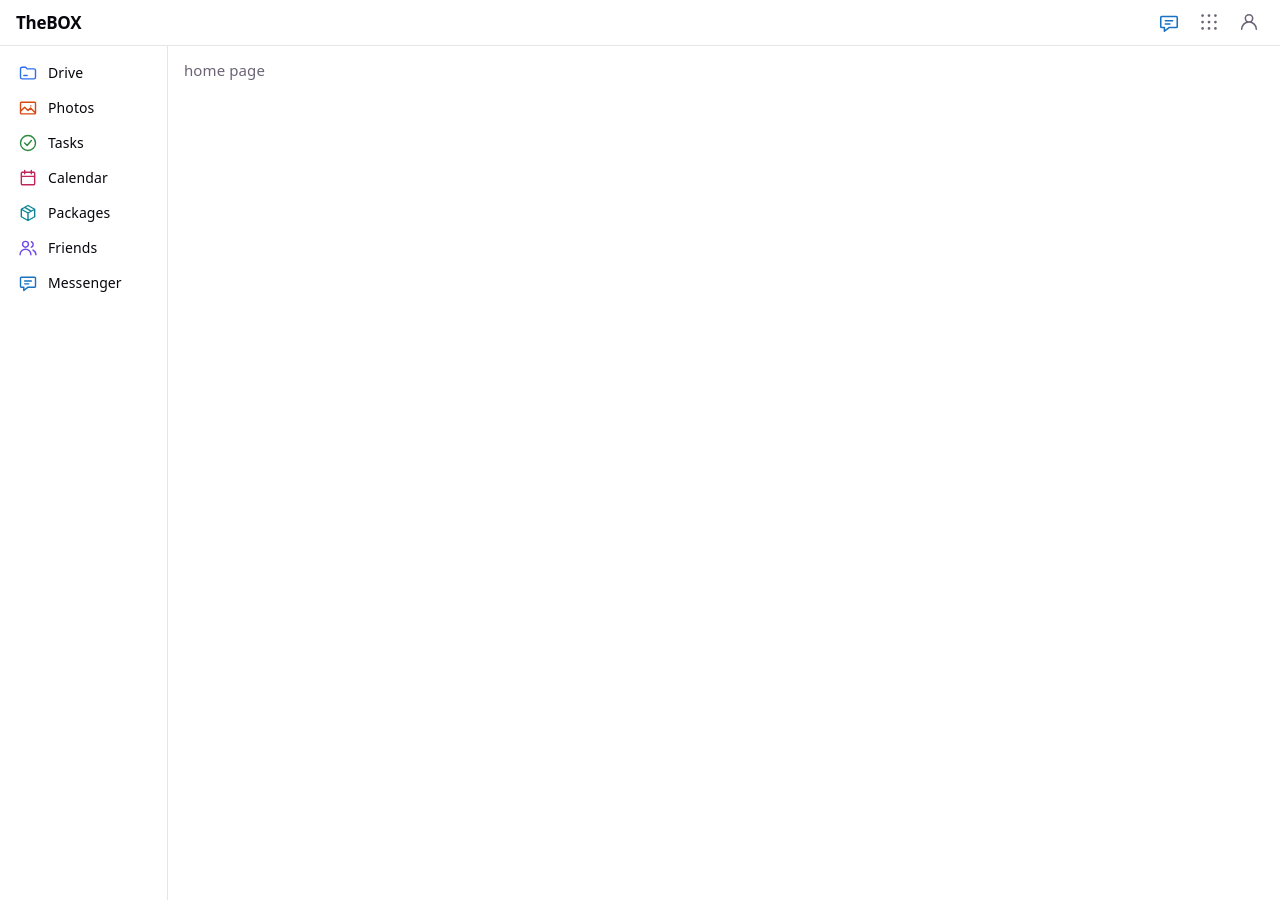
Test: AppLayout › shows the signed-in email in the account menu
Step 1. Click the button named "Account" → [1249, 22], box [1234,7,1264,37]
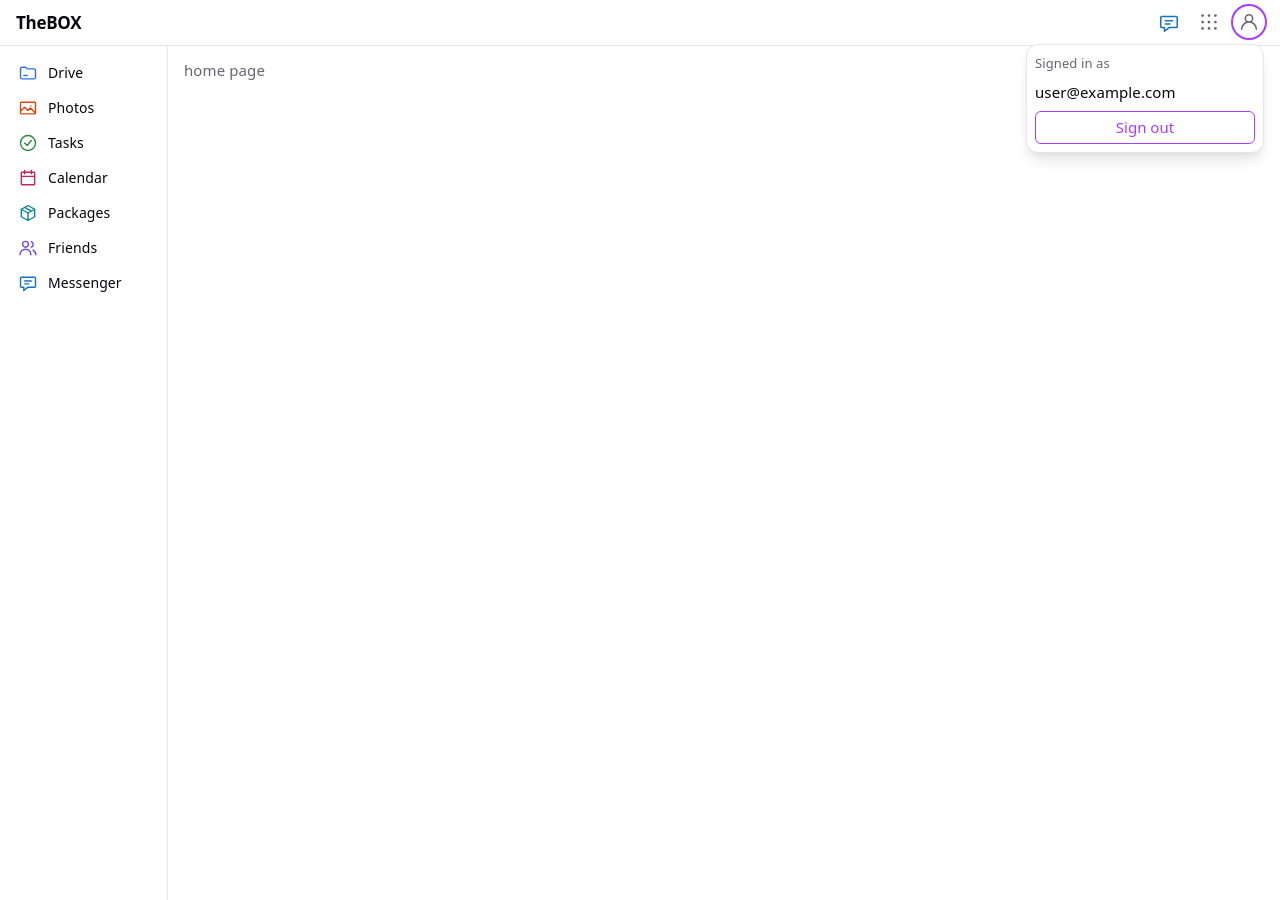
Expected: the text "user@example.com" is shown, [1035,82,1176,102]
Expected: the button "Sign out" is shown, [1035,111,1255,144]
